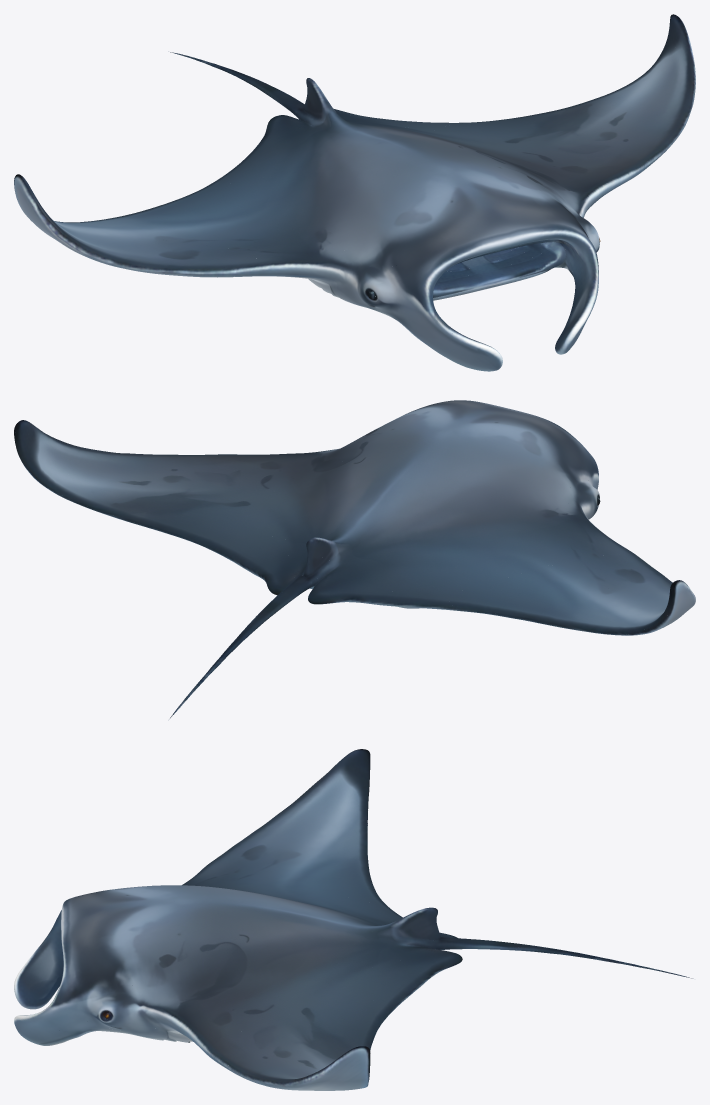
File: giant-manta-ray.glb
3 views of the same model, one above another, from view 1: azimuth 30°, elevation 25°; view 2: azimuth 150°, elevation 25°; view 3: azimuth 270°, elevation 25° (orthographic). The views are drawn at different scales.
Visible parts, largest first — view 1: OE_mesh_giant-manta-ray_rodin-web-draft; view 2: OE_mesh_giant-manta-ray_rodin-web-draft; view 3: OE_mesh_giant-manta-ray_rodin-web-draft.
Part boxes in pixels (box(x1,y1,x2,y2)): OE_mesh_giant-manta-ray_rodin-web-draft: box(14, 14, 695, 371); OE_mesh_giant-manta-ray_rodin-web-draft: box(14, 400, 695, 720); OE_mesh_giant-manta-ray_rodin-web-draft: box(14, 749, 693, 1090).
Size of the model in its own units: 1.76 by 0.3491 by 1.69.
Materials: 1 (1 with a texture image).
